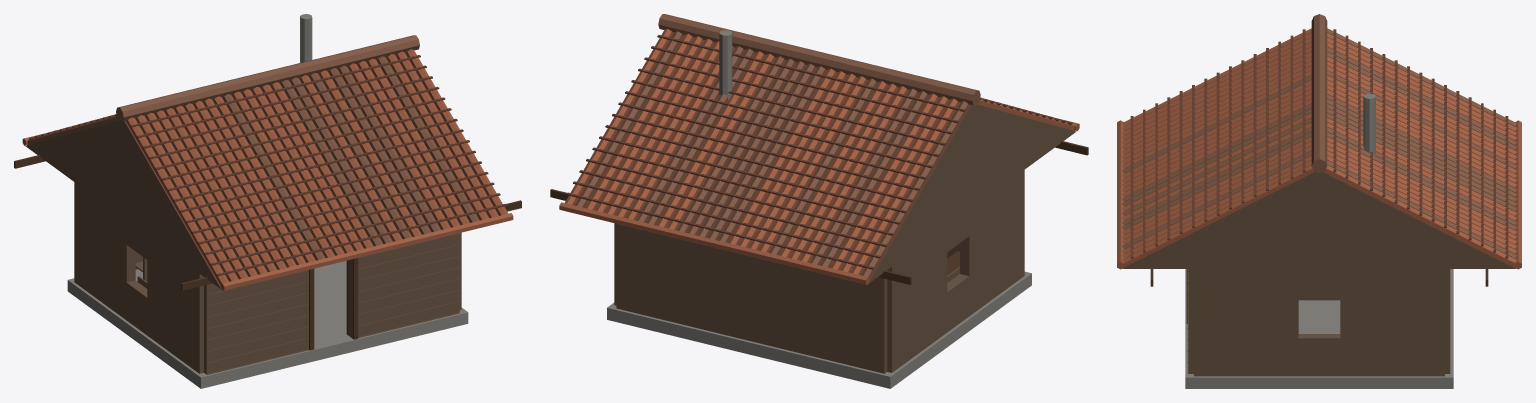
Rendered from SM_Kulube_3.fbx.
3 renders of one model, left to right at view 1: azimuth 30°, elevation 25°; view 2: azimuth 150°, elevation 25°; view 3: azimuth 270°, elevation 25°, orthographic. The views are drawn at different scales.
Visible parts, largest first — view 1: Kulube_3; view 2: Kulube_3; view 3: Kulube_3.
Part boxes in pixels (x1,y1,x2,y2): Kulube_3: (14,14,521,388); Kulube_3: (550,14,1088,388); Kulube_3: (1117,14,1521,388).
Bounding box in the file's own units: 940 × 680 × 967.
